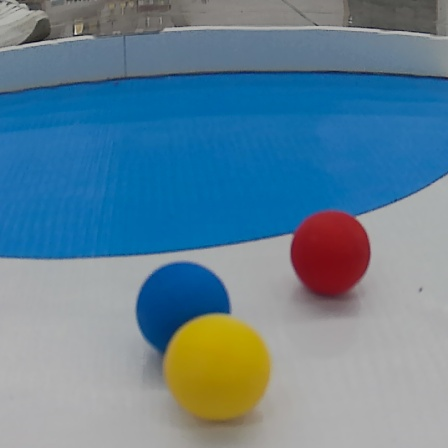blue: (133, 262, 236, 363)
blue_base: (3, 66, 448, 265)
red: (287, 206, 370, 299)
yellow: (162, 304, 271, 425)
